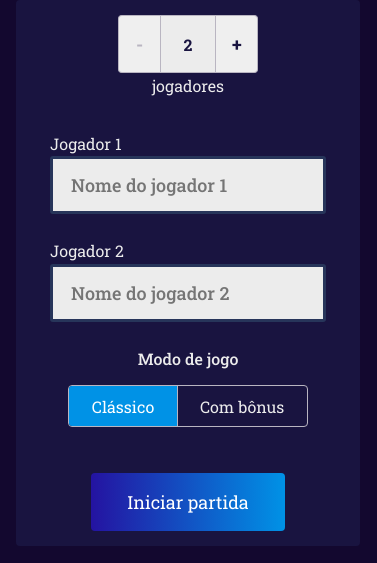
Test: cadastro de jogadores › volta para o mínimo ao sair do campo vazio
Clear the number field at (188, 44), box [160,15,216,73]
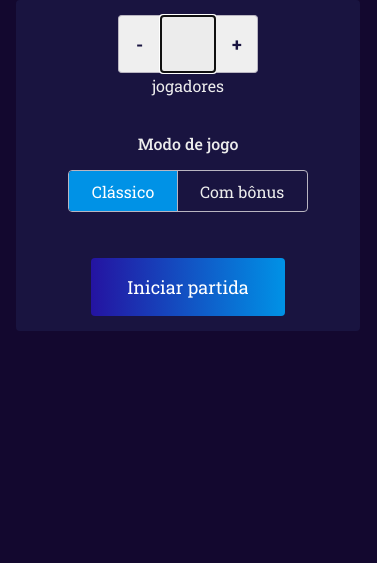
Press Tab
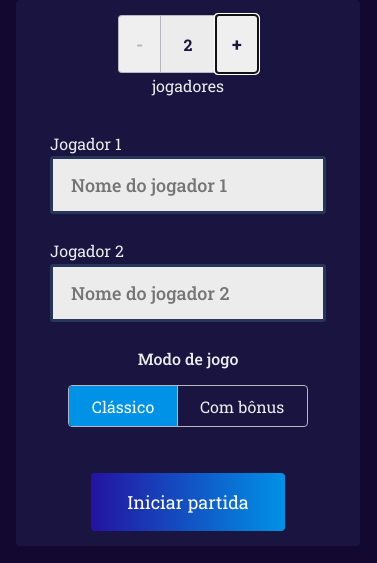
Now the number field holds "2", box [160,15,216,73]
